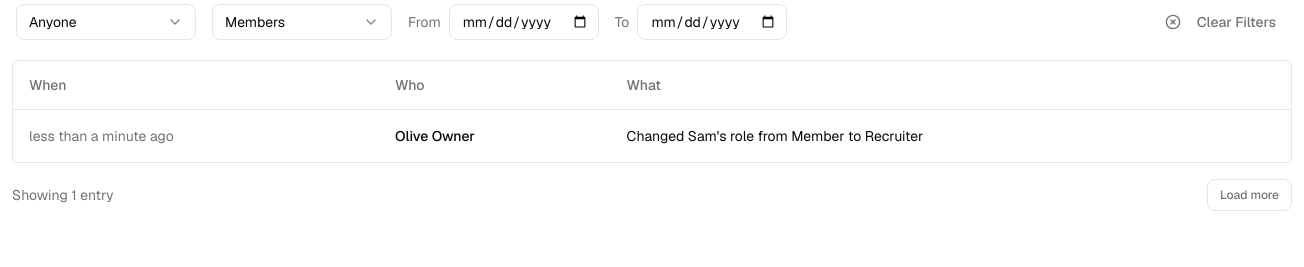
Test case: AuditLog (RPT-072) › loads the next page with the same filters
Click the button "Load more" at (1249, 194), box 1207,178 -> 1292,210
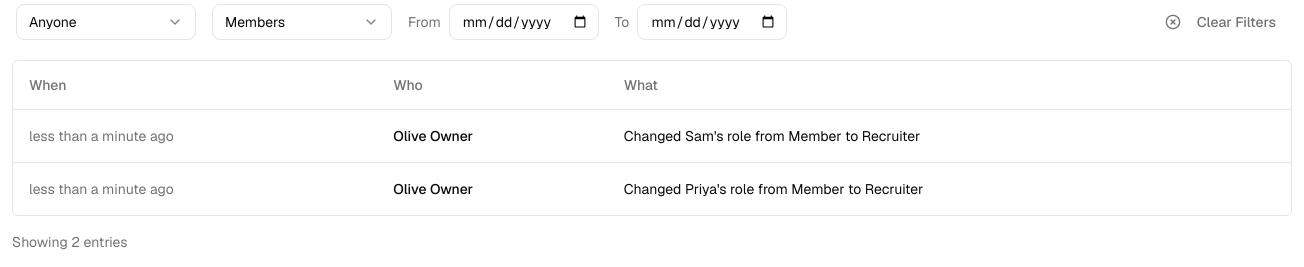
Now the text "changed Priya's role from Member to Recruiter" is shown, box 624,180 -> 923,198
Now the button "Load more" is gone
